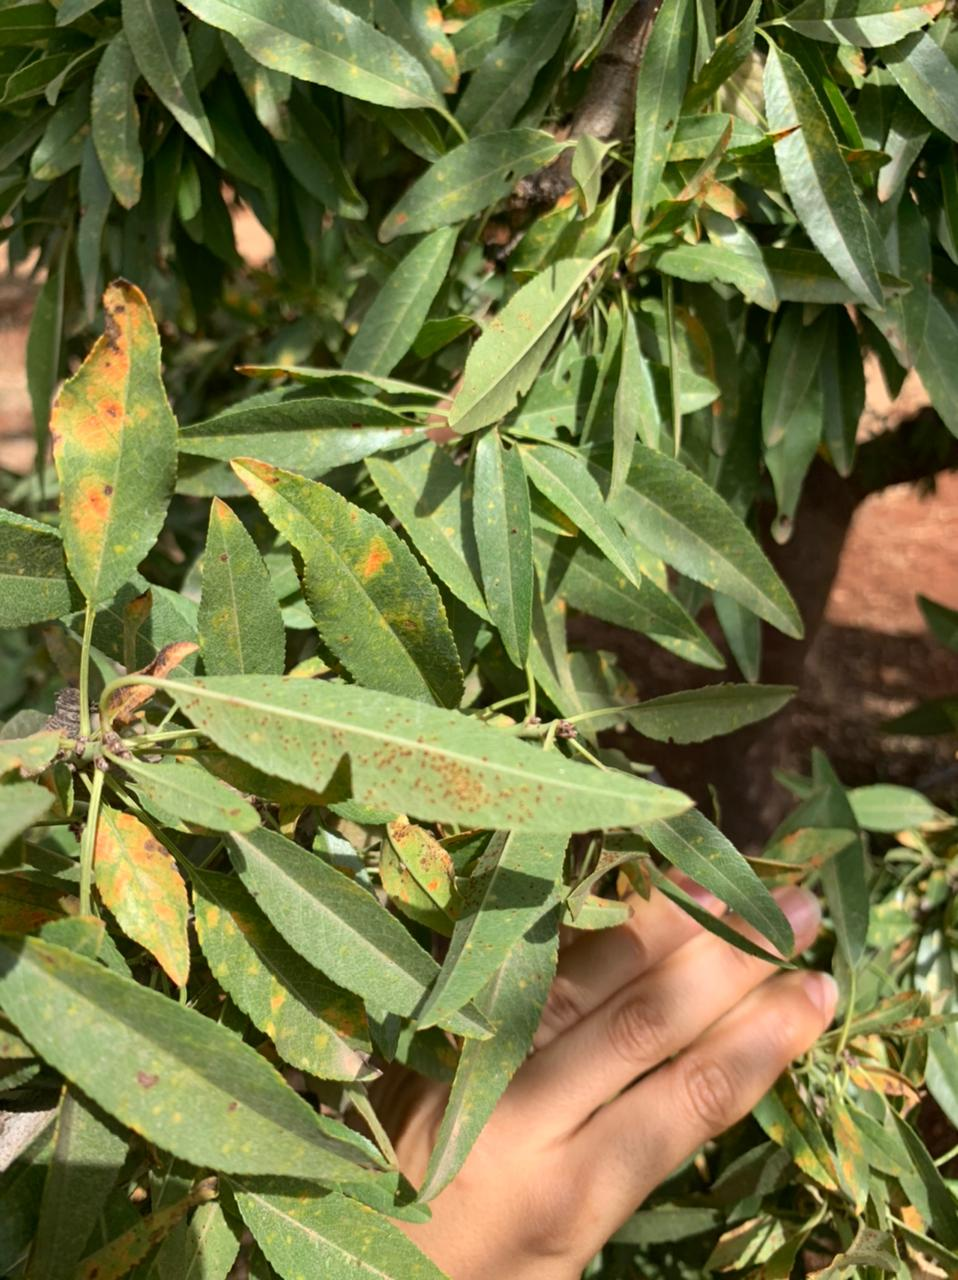rouille: (1, 930, 395, 1183), (159, 673, 697, 834), (228, 454, 467, 708), (47, 276, 179, 617), (191, 865, 379, 1077), (379, 126, 564, 244), (91, 794, 187, 996), (198, 498, 286, 677), (378, 815, 464, 935), (121, 763, 262, 835), (564, 842, 636, 921)
